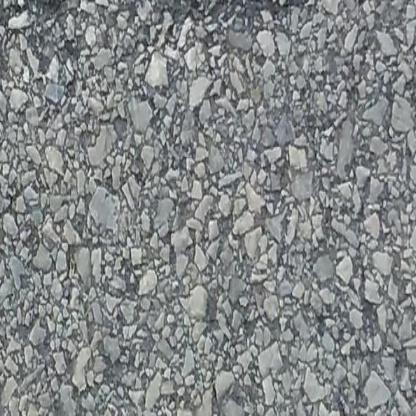Cracks: (0, 0, 332, 14)
